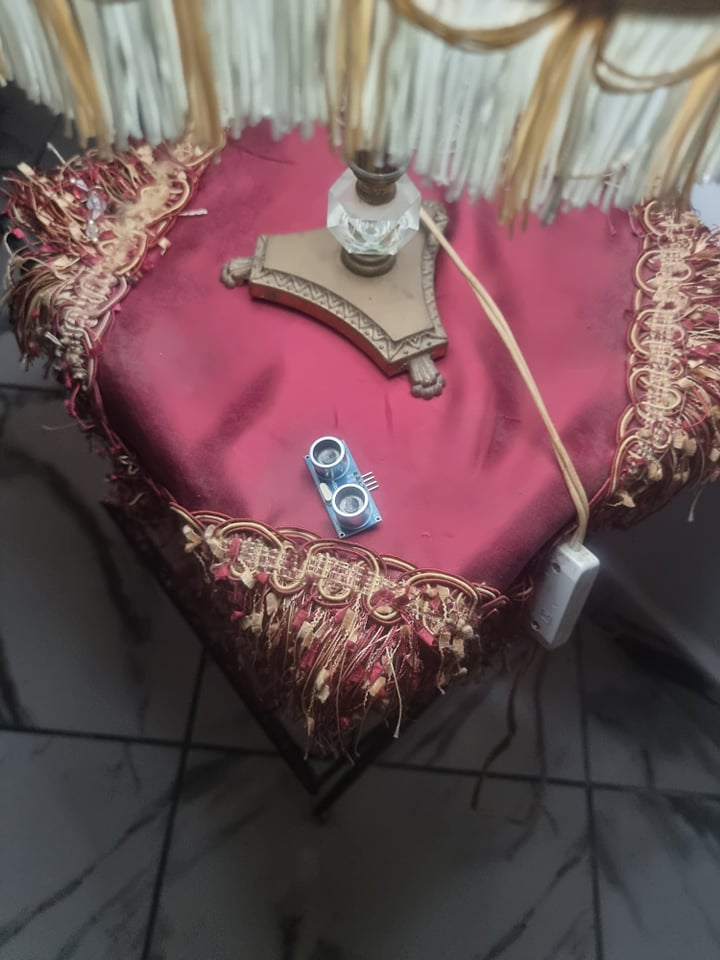SENSOR: (305, 435, 382, 539)
